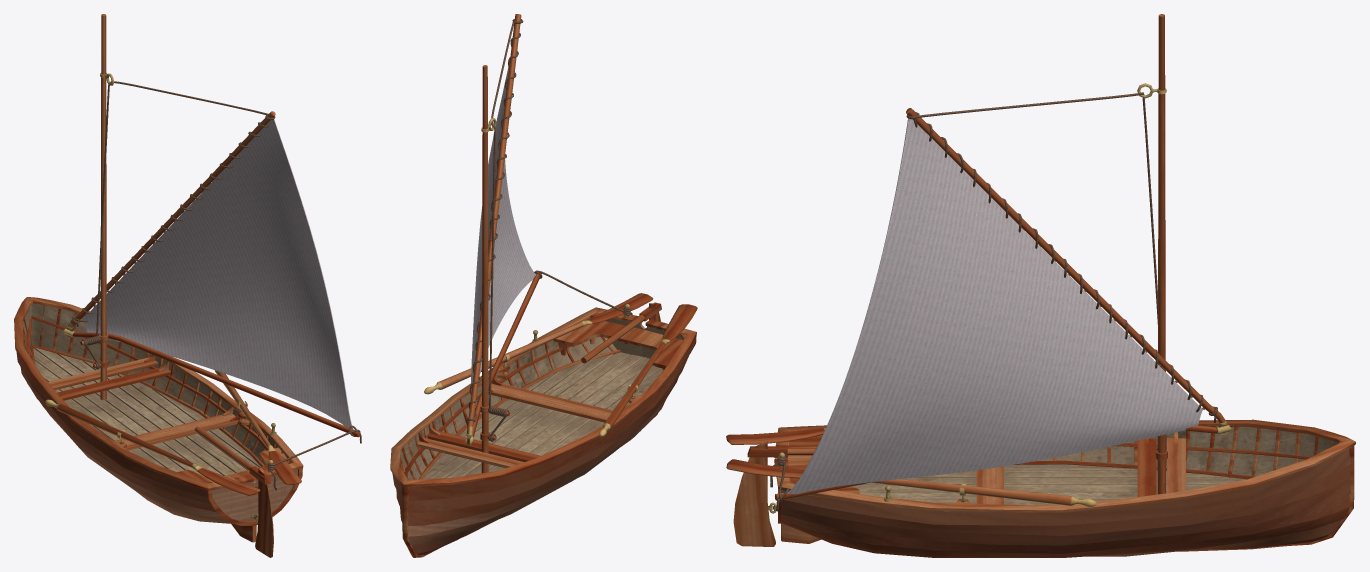
Rendered from rowing-boat.glb.
3 views of the same model, side by side, from view 1: azimuth 30°, elevation 25°; view 2: azimuth 150°, elevation 25°; view 3: azimuth 270°, elevation 25° (orthographic). The views are drawn at different scales.
Parts seen in each view (by area): view 1: Sail, Fittings, Hull, Port_oar, Starboard_oar, Lacing; view 2: Fittings, Hull, Sail, Starboard_oar, Port_oar, Lacing; view 3: Sail, Fittings, Hull, Starboard_oar, Lacing, Port_oar.
Part boxes in pixels (x1=…): Sail: x1=83, y1=119, x2=353, y2=429; Fittings: x1=16, y1=14, x2=361, y2=557; Hull: x1=14, y1=297, x2=303, y2=542; Port_oar: x1=45, y1=399, x2=260, y2=495; Starboard_oar: x1=214, y1=370, x2=301, y2=484; Lacing: x1=72, y1=122, x2=269, y2=326; Fittings: x1=392, y1=14, x2=696, y2=554; Hull: x1=390, y1=307, x2=696, y2=557; Sail: x1=471, y1=67, x2=535, y2=395; Starboard_oar: x1=424, y1=293, x2=653, y2=394; Port_oar: x1=599, y1=304, x2=697, y2=436; Lacing: x1=466, y1=32, x2=520, y2=425; Sail: x1=787, y1=118, x2=1202, y2=494; Fittings: x1=733, y1=14, x2=1350, y2=557; Hull: x1=774, y1=419, x2=1355, y2=551; Starboard_oar: x1=726, y1=459, x2=1096, y2=506; Lacing: x1=913, y1=119, x2=1217, y2=422; Port_oar: x1=726, y1=428, x2=825, y2=444.
Size of the model in its own units: 2.3 by 4.87 by 5.2.
Materials: 1 (1 with a texture image).
